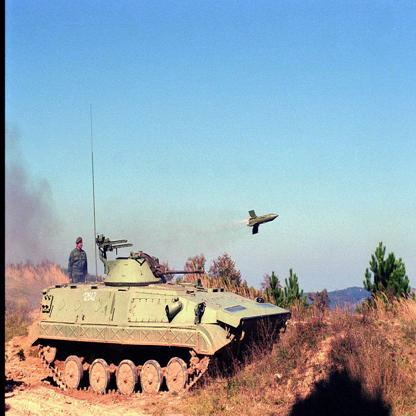Tank: (31, 245, 293, 399)
